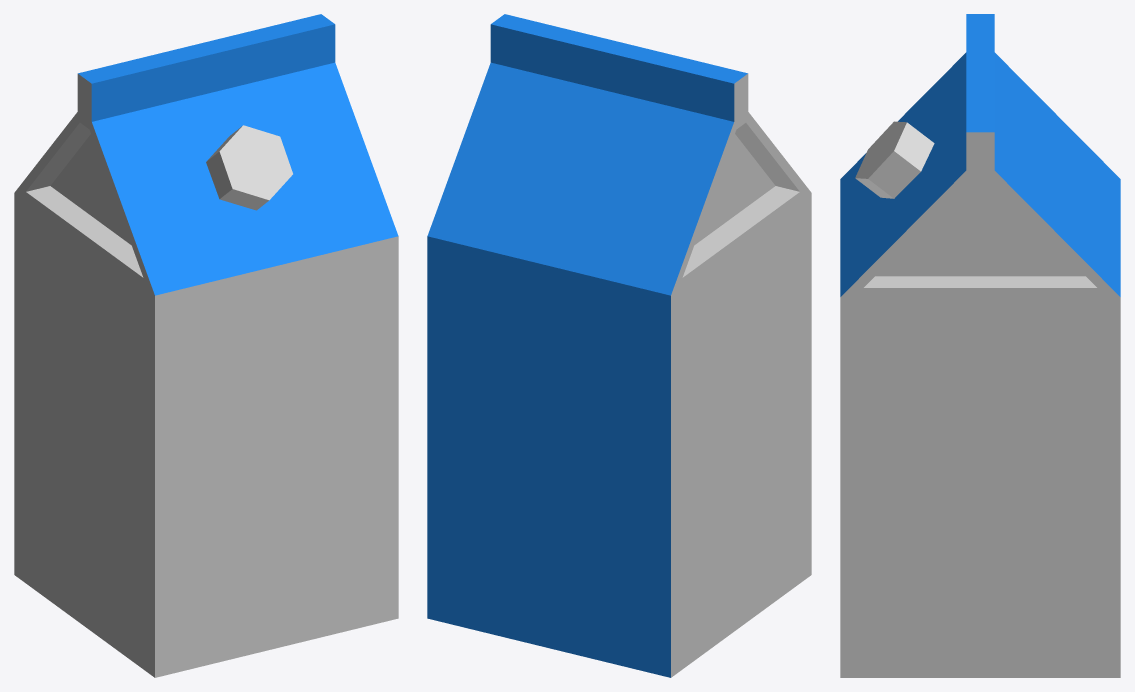
File: Milk.fbx
3 renders of one model, left to right at view 1: azimuth 30°, elevation 25°; view 2: azimuth 150°, elevation 25°; view 3: azimuth 270°, elevation 25°, orthographic.
Parts seen in each view (by area): view 1: milk_low; view 2: milk_low; view 3: milk_low.
Boxes of the visible parts, x1,y1,x2,y2 form: milk_low: (14,14,398,677); milk_low: (427,14,811,677); milk_low: (840,14,1120,677).
Bounding box in the file's own units: 20 × 43 × 20.
